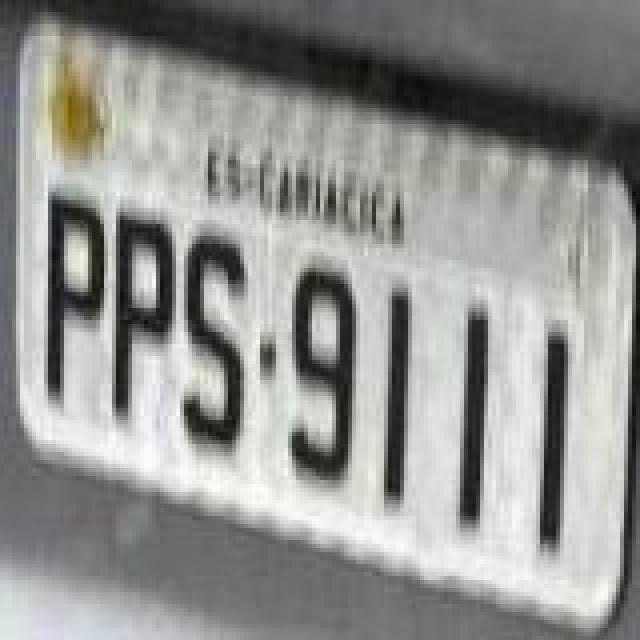1: (378, 282, 414, 502), (454, 306, 490, 526), (534, 330, 570, 550)
9: (288, 266, 360, 486)
P: (44, 190, 108, 418), (112, 212, 176, 428)
S: (182, 234, 250, 454)
